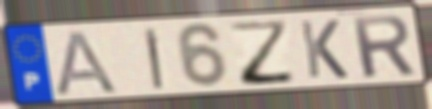6: (174, 20, 233, 92)
A: (54, 29, 121, 97)
I: (142, 26, 167, 92)
K: (296, 18, 351, 80)
R: (347, 13, 418, 81)
Z: (227, 18, 299, 88)
